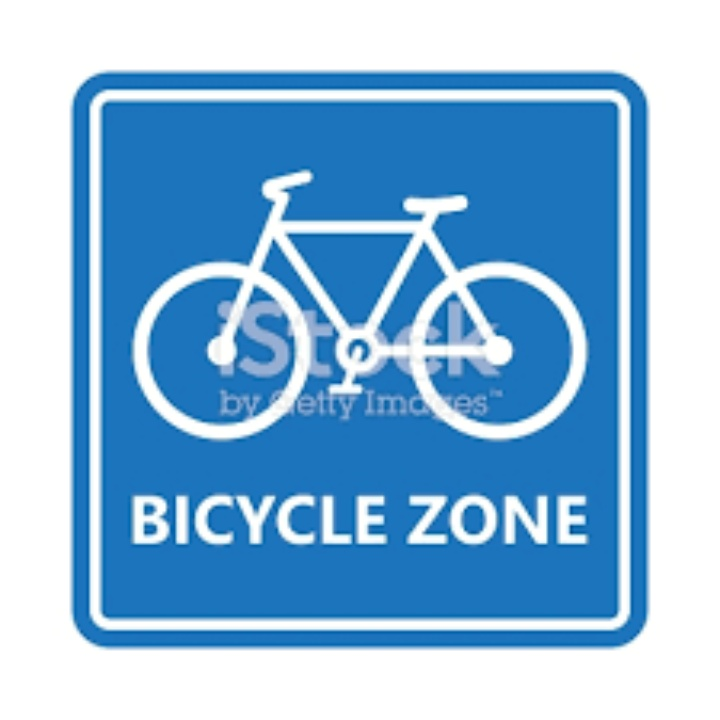bicycle: (126, 165, 591, 440)
